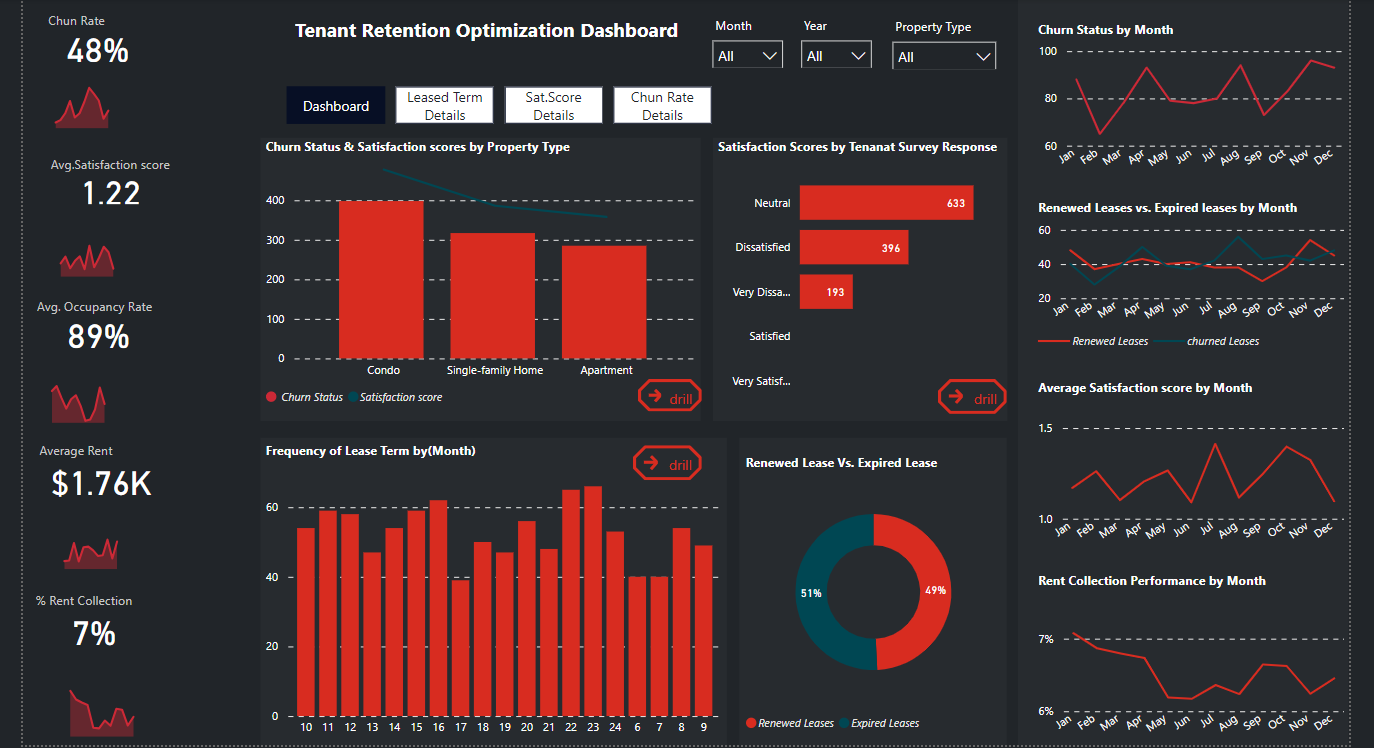

This screenshot's page, from the dashboard's own definition file:
{"tool":"powerbi","page":{"name":"Dashboard","canvas":[1280,720],"ordinal":0},"visuals":[{"type":"shape","box":[0,277.5,183.6,131.1],"z":0},{"type":"shape","box":[11,277.5,136.7,124.2],"z":1000},{"type":"shape","box":[0,415.5,201.6,125.6],"z":2000},{"type":"shape","box":[974.6,571.5,305.1,149.1],"z":3000},{"type":"shape","box":[974.6,332.7,305.1,131.1],"z":4000},{"type":"shape","box":[985.7,171.2,294.1,133.9],"z":5000},{"type":"shape","box":[974.6,12.4,305.1,140.8],"z":6000},{"type":"shape","box":[960.8,0,318.9,720.6],"z":7000},{"type":"shape","box":[0,0,183.6,720.6],"z":8000},{"type":"shape","box":[229.2,423.8,450,296.8],"z":9000},{"type":"shape","box":[0,0,215.4,720.6],"z":10000},{"type":"shape","box":[229.2,133.9,425.2,273.3],"z":11000},{"type":"shape","box":[691.3,423.5,258.2,296.8],"z":12000},{"type":"shape","box":[665.4,133.9,284.4,273.3],"z":13000},{"type":"textbox","box":[241.3,12.1,412.6,43.4],"z":14000},{"type":"pageNavigator","box":[254.6,84.5,411.4,36.2],"z":15000},{"type":"shape","box":[9.7,408.6,173.9,145],"z":16000},{"type":"shape","box":[11,563.3,172.6,147.7],"z":17000},{"type":"card","title":"Chun Rate","fields":{"Values":["MeasureTable.chun Rate"]},"box":[19.3,12.4,106.3,53.8],"z":18000},{"type":"card","title":"Avg.Satisfaction score","fields":{"Values":["MeasureTable.Average Satisfaction"]},"box":[22.1,151.2,125.6,52.5],"z":19000},{"type":"card","title":"Avg. Occupancy Rate","fields":{"Values":["Avg(property_information.Historical Occupancy Rate Decimal)"]},"box":[8.3,288.5,129.8,53.8],"z":20000},{"type":"card","title":"Average Rent","fields":{"Values":["Avg(Full Data.Rent Amount (USD))"]},"box":[11,427.3,129.8,59.4],"z":21000},{"type":"card","title":"% Rent Collection","fields":{"Values":["MeasureTable.Rent Collection Performance"]},"box":[6.9,571.5,122.9,59.4],"z":22000},{"type":"areaChart","fields":{"Category":["Start Date.Month"],"Y":["MeasureTable.Average Satisfaction"]},"box":[16.6,210.5,99.4,62.1],"z":23000},{"type":"areaChart","fields":{"Y":["MeasureTable.Current Occupancy Rate"],"Category":["Start Date.Month"]},"box":[8.3,353.4,99.4,60.7],"z":24000},{"type":"areaChart","fields":{"Y":["MeasureTable.chun Rate"],"Category":["Start Date.Month"]},"box":[12.4,66.3,99.4,63.5],"z":25000},{"type":"areaChart","fields":{"Category":["Start Date.Month"],"Y":["MeasureTable.Average Rent"]},"box":[20.7,494.9,99.4,60.7],"z":26000},{"type":"areaChart","fields":{"Category":["Start Date.Month"],"Y":["MeasureTable.Rent Collection Performance"]},"box":[24.8,636.4,113.2,80.1],"z":27000},{"type":"lineChart","title":"Average Satisfaction score by Month","fields":{"Category":["Start Date.MonthName"],"Y":["Avg(tenant_information and feedback.Satisfaction score)"]},"box":[974.6,366.8,305.1,167],"z":28000},{"type":"lineChart","title":"Rent Collection Performance by Month","fields":{"Category":["Start Date.MonthName"],"Y":["MeasureTable.Rent Collection Performance"]},"box":[974.6,553,305.1,167],"z":29000},{"type":"lineChart","title":"Renewed Leases vs. Expired leases by Month","fields":{"Category":["Start Date.MonthName"],"Y":["MeasureTable.Active Leases","MeasureTable.churned Leases"]},"box":[974.6,193.1,305.1,154.6],"z":30000},{"type":"lineChart","title":"Churn Status by Month","fields":{"Category":["Start Date.MonthName"],"Y":["CountNonNull(Full Data.Churn Status)"]},"box":[974.6,20.7,305.1,153.2],"z":31000},{"type":"lineStackedColumnComboChart","title":"Churn Status & Satisfaction scores by Property Type ","fields":{"Y":["CountNonNull(Full Data.Churn Status)"],"Category":["property_information.Property Type"],"Y2":["Sum(tenant_information and feedback.Satisfaction score)"]},"box":[229.2,133.9,425.2,267.8],"z":32000},{"type":"columnChart","title":"Frequency of Lease Term by(Month)","fields":{"Category":["Full Data.Lease Term (Months)"],"Y":["CountNonNull(Full Data.Lease ID)"]},"box":[229.2,427.1,450,293.2],"z":33000},{"type":"donutChart","title":"Renewed Lease Vs. Expired Lease","fields":{"Y":["MeasureTable.Active Leases","MeasureTable.churned Leases"]},"box":[692.5,439.1,257,277.5],"z":34000},{"type":"clusteredBarChart","title":"Satisfaction Scores by Tenanat Survey Response","fields":{"Category":["tenant_information and feedback.Survey Response"],"Y":["Sum(tenant_information and feedback.Satisfaction score)"]},"box":[665.4,133.9,284.4,274.7],"z":35000},{"type":"actionButton","box":[593.6,366.8,61.5,31.4],"z":37000},{"type":"actionButton","box":[883.1,366.8,66.4,33.8],"z":38000},{"type":"slicer","title":"Churn Status by Month","fields":{"Values":["Start Date.MonthName"]},"box":[655.1,12.1,88.1,54.3],"z":39000},{"type":"slicer","title":"Churn Status by Month","fields":{"Values":["Start Date.Year"]},"box":[740.8,12.1,88.1,54.3],"z":39001},{"type":"slicer","title":"Churn Status by Month","fields":{"Values":["property_information.Property Type"]},"box":[828.8,13.3,120.6,54.3],"z":39002},{"type":"actionButton","box":[588.7,430.7,66.4,33.8],"z":39003}]}

Visuals, with their boxes on the page's 1280x720 design canvas (x1, y1, x2, y2). These are canvas units, not pixel positions in the 1374x748 screenshot, which may show the page scaled, cropped or inside an application window:
shape: 0/278/184/409
shape: 11/278/148/402
shape: 0/416/202/541
shape: 975/572/1280/721
shape: 975/333/1280/464
shape: 986/171/1280/305
shape: 975/12/1280/153
shape: 961/0/1280/721
shape: 0/0/184/721
shape: 229/424/679/721
shape: 0/0/215/721
shape: 229/134/654/407
shape: 691/424/950/720
shape: 665/134/950/407
textbox: 241/12/654/56
pageNavigator: 255/84/666/121
shape: 10/409/184/554
shape: 11/563/184/711
"Chun Rate" card: 19/12/126/66
"Avg.Satisfaction score" card: 22/151/148/204
"Avg. Occupancy Rate" card: 8/288/138/342
"Average Rent" card: 11/427/141/487
"% Rent Collection" card: 7/572/130/631
areaChart - Start Date.Month x MeasureTable.Average Satisfaction: 17/210/116/273
areaChart - MeasureTable.Current Occupancy Rate x Start Date.Month: 8/353/108/414
areaChart - MeasureTable.chun Rate x Start Date.Month: 12/66/112/130
areaChart - Start Date.Month x MeasureTable.Average Rent: 21/495/120/556
areaChart - Start Date.Month x MeasureTable.Rent Collection Performance: 25/636/138/716
"Average Satisfaction score by Month" lineChart: 975/367/1280/534
"Rent Collection Performance by Month" lineChart: 975/553/1280/720
"Renewed Leases vs. Expired leases by Month" lineChart: 975/193/1280/348
"Churn Status by Month" lineChart: 975/21/1280/174
"Churn Status & Satisfaction scores by Property Type " lineStackedColumnComboChart: 229/134/654/402
"Frequency of Lease Term by(Month)" columnChart: 229/427/679/720
"Renewed Lease Vs. Expired Lease" donutChart: 692/439/950/717
"Satisfaction Scores by Tenanat Survey Response" clusteredBarChart: 665/134/950/409
actionButton: 594/367/655/398
actionButton: 883/367/950/401
"Churn Status by Month" slicer: 655/12/743/66
"Churn Status by Month" slicer: 741/12/829/66
"Churn Status by Month" slicer: 829/13/949/68
actionButton: 589/431/655/464
